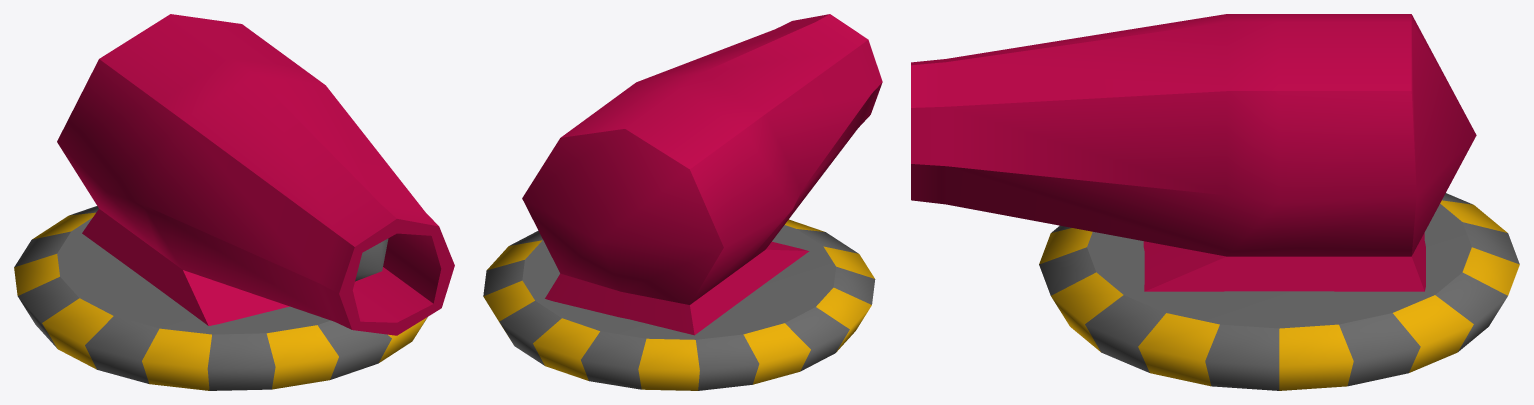
The model's file is Cannon.fbx.
3 renders of one model, left to right at view 1: azimuth 30°, elevation 25°; view 2: azimuth 150°, elevation 25°; view 3: azimuth 270°, elevation 25°, orthographic. The views are drawn at different scales.
Parts seen in each view (by area): view 1: pCube3, pCylinder1; view 2: pCube3, pCylinder1; view 3: pCube3, pCylinder1.
Part boxes in pixels (<box>): pCube3: <box>57,14,454,335</box>; pCylinder1: <box>14,206,427,390</box>; pCube3: <box>522,14,882,335</box>; pCylinder1: <box>483,219,875,390</box>; pCube3: <box>911,14,1476,291</box>; pCylinder1: <box>1039,193,1519,390</box>.
Size of the model in its own units: 6.69 by 4.25 by 8.47.
